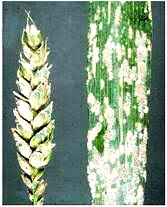Powdery Mildew: (65, 23, 162, 159)
